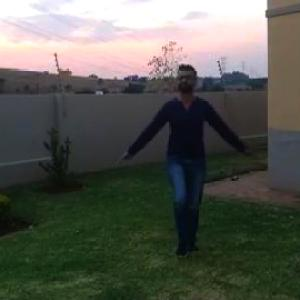land: (133, 77, 231, 216)
